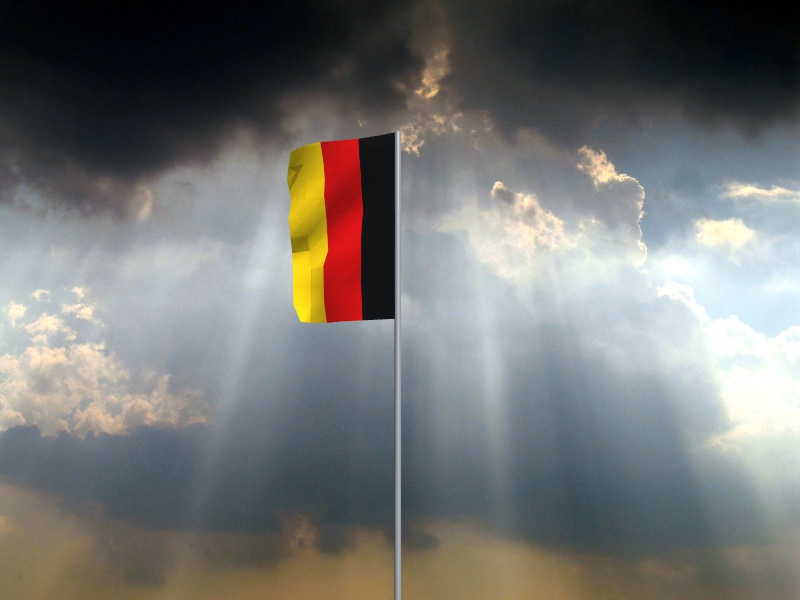de: (287, 134, 396, 325)
